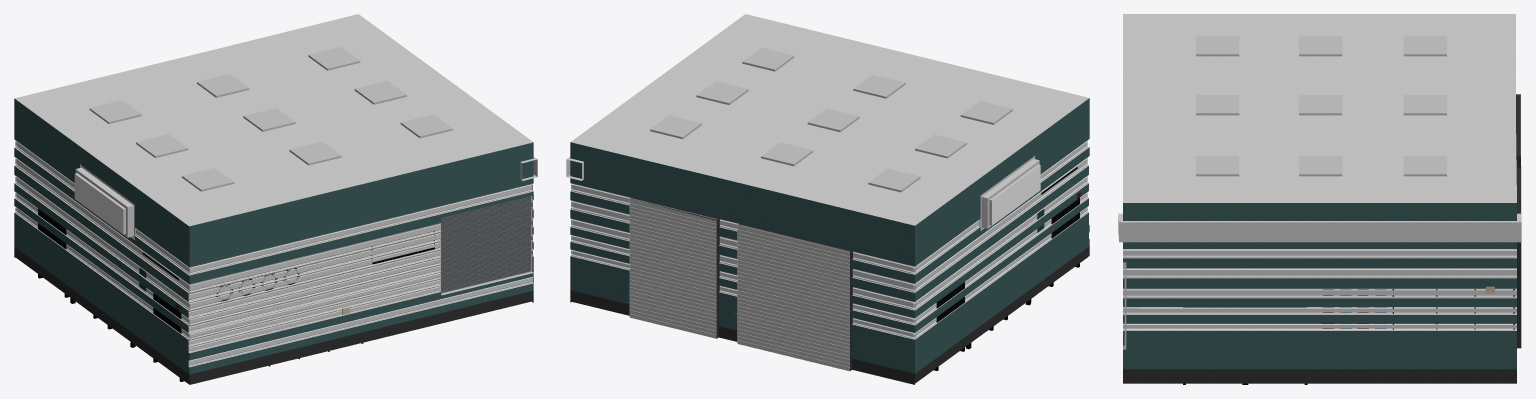
Rendered from garage.glb.
3 views of the same model, side by side, from view 1: azimuth 30°, elevation 25°; view 2: azimuth 150°, elevation 25°; view 3: azimuth 270°, elevation 25° (orthographic). The views are drawn at different scales.
Visible parts, largest first — view 1: Plane001, Box007_chern_0, Box029, Box021, Box023, Box024, Box026, Box027, Box028, Box025, Box022; view 2: Plane001, Box007_chern_0, Box023, Box027, Box025, Box021, Box024, Box028, Box029, Box022, Box026; view 3: Plane001, Box014, Box021, Box022, Box023, Box024, Box025, Box026, Box027, Box028, Box029.
Part boxes in pixels (bbox=[...]): Plane001: bbox=[14, 14, 533, 384]; Box007_chern_0: bbox=[38, 208, 434, 381]; Box029: bbox=[197, 74, 249, 97]; Box021: bbox=[182, 168, 234, 191]; Box023: bbox=[89, 100, 141, 123]; Box024: bbox=[400, 114, 452, 138]; Box026: bbox=[308, 47, 360, 70]; Box027: bbox=[289, 141, 341, 165]; Box028: bbox=[243, 108, 295, 131]; Box025: bbox=[354, 81, 406, 104]; Box022: bbox=[136, 134, 188, 157]; Plane001: bbox=[570, 14, 1089, 384]; Box007_chern_0: bbox=[934, 167, 1079, 370]; Box023: bbox=[868, 168, 920, 192]; Box027: bbox=[853, 75, 905, 98]; Box025: bbox=[696, 81, 748, 104]; Box021: bbox=[960, 101, 1012, 124]; Box024: bbox=[742, 47, 794, 71]; Box028: bbox=[807, 108, 859, 132]; Box029: bbox=[761, 142, 813, 166]; Box022: bbox=[915, 134, 966, 158]; Box026: bbox=[650, 115, 701, 139]; Plane001: bbox=[1123, 14, 1521, 383]; Box014: bbox=[1118, 213, 1521, 242]; Box021: bbox=[1196, 36, 1239, 56]; Box022: bbox=[1299, 36, 1342, 56]; Box023: bbox=[1403, 36, 1446, 56]; Box024: bbox=[1196, 156, 1239, 176]; Box025: bbox=[1299, 156, 1342, 176]; Box026: bbox=[1403, 156, 1446, 176]; Box027: bbox=[1196, 95, 1239, 115]; Box028: bbox=[1299, 95, 1342, 115]; Box029: bbox=[1403, 95, 1446, 115].
Bounding box in the file's own units: 12.53 × 5.72 × 10.97.
24 materials, 6 textured.
